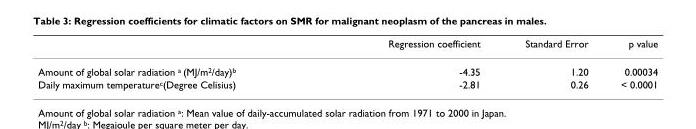table: (37, 37, 657, 89)
table column: (37, 37, 311, 89), (311, 37, 502, 89), (502, 37, 603, 89), (603, 37, 657, 89)
table column header: (37, 37, 657, 57)
table row: (37, 37, 657, 57), (37, 57, 657, 77), (37, 77, 657, 89)
